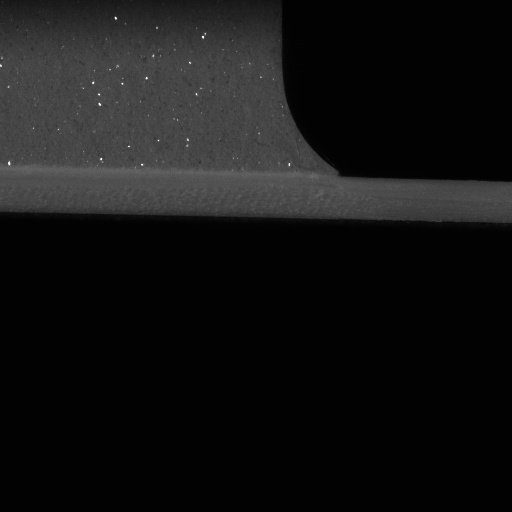changdai: (334, 174, 511, 226)
